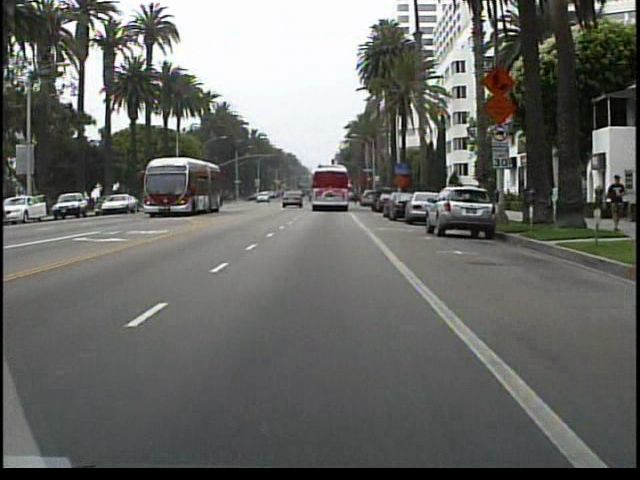person: (601, 171, 626, 234)
